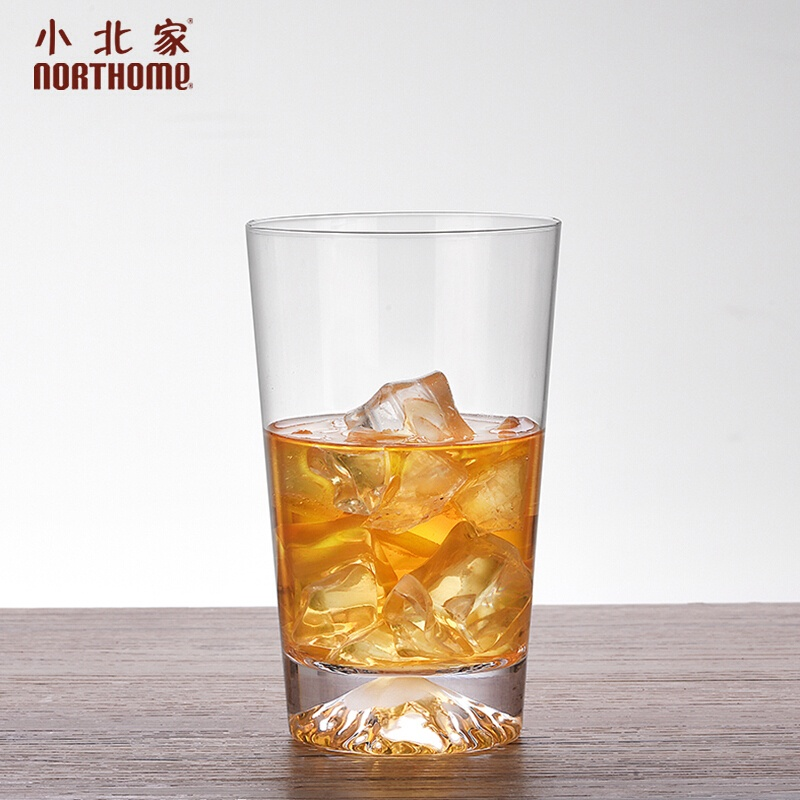whiskey: (249, 209, 571, 747)
